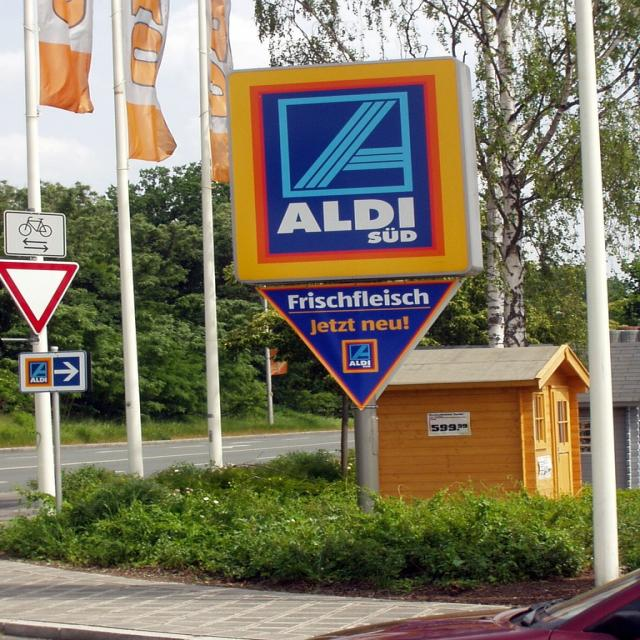aldi: (227, 58, 471, 283), (342, 340, 380, 375), (27, 358, 54, 387)
